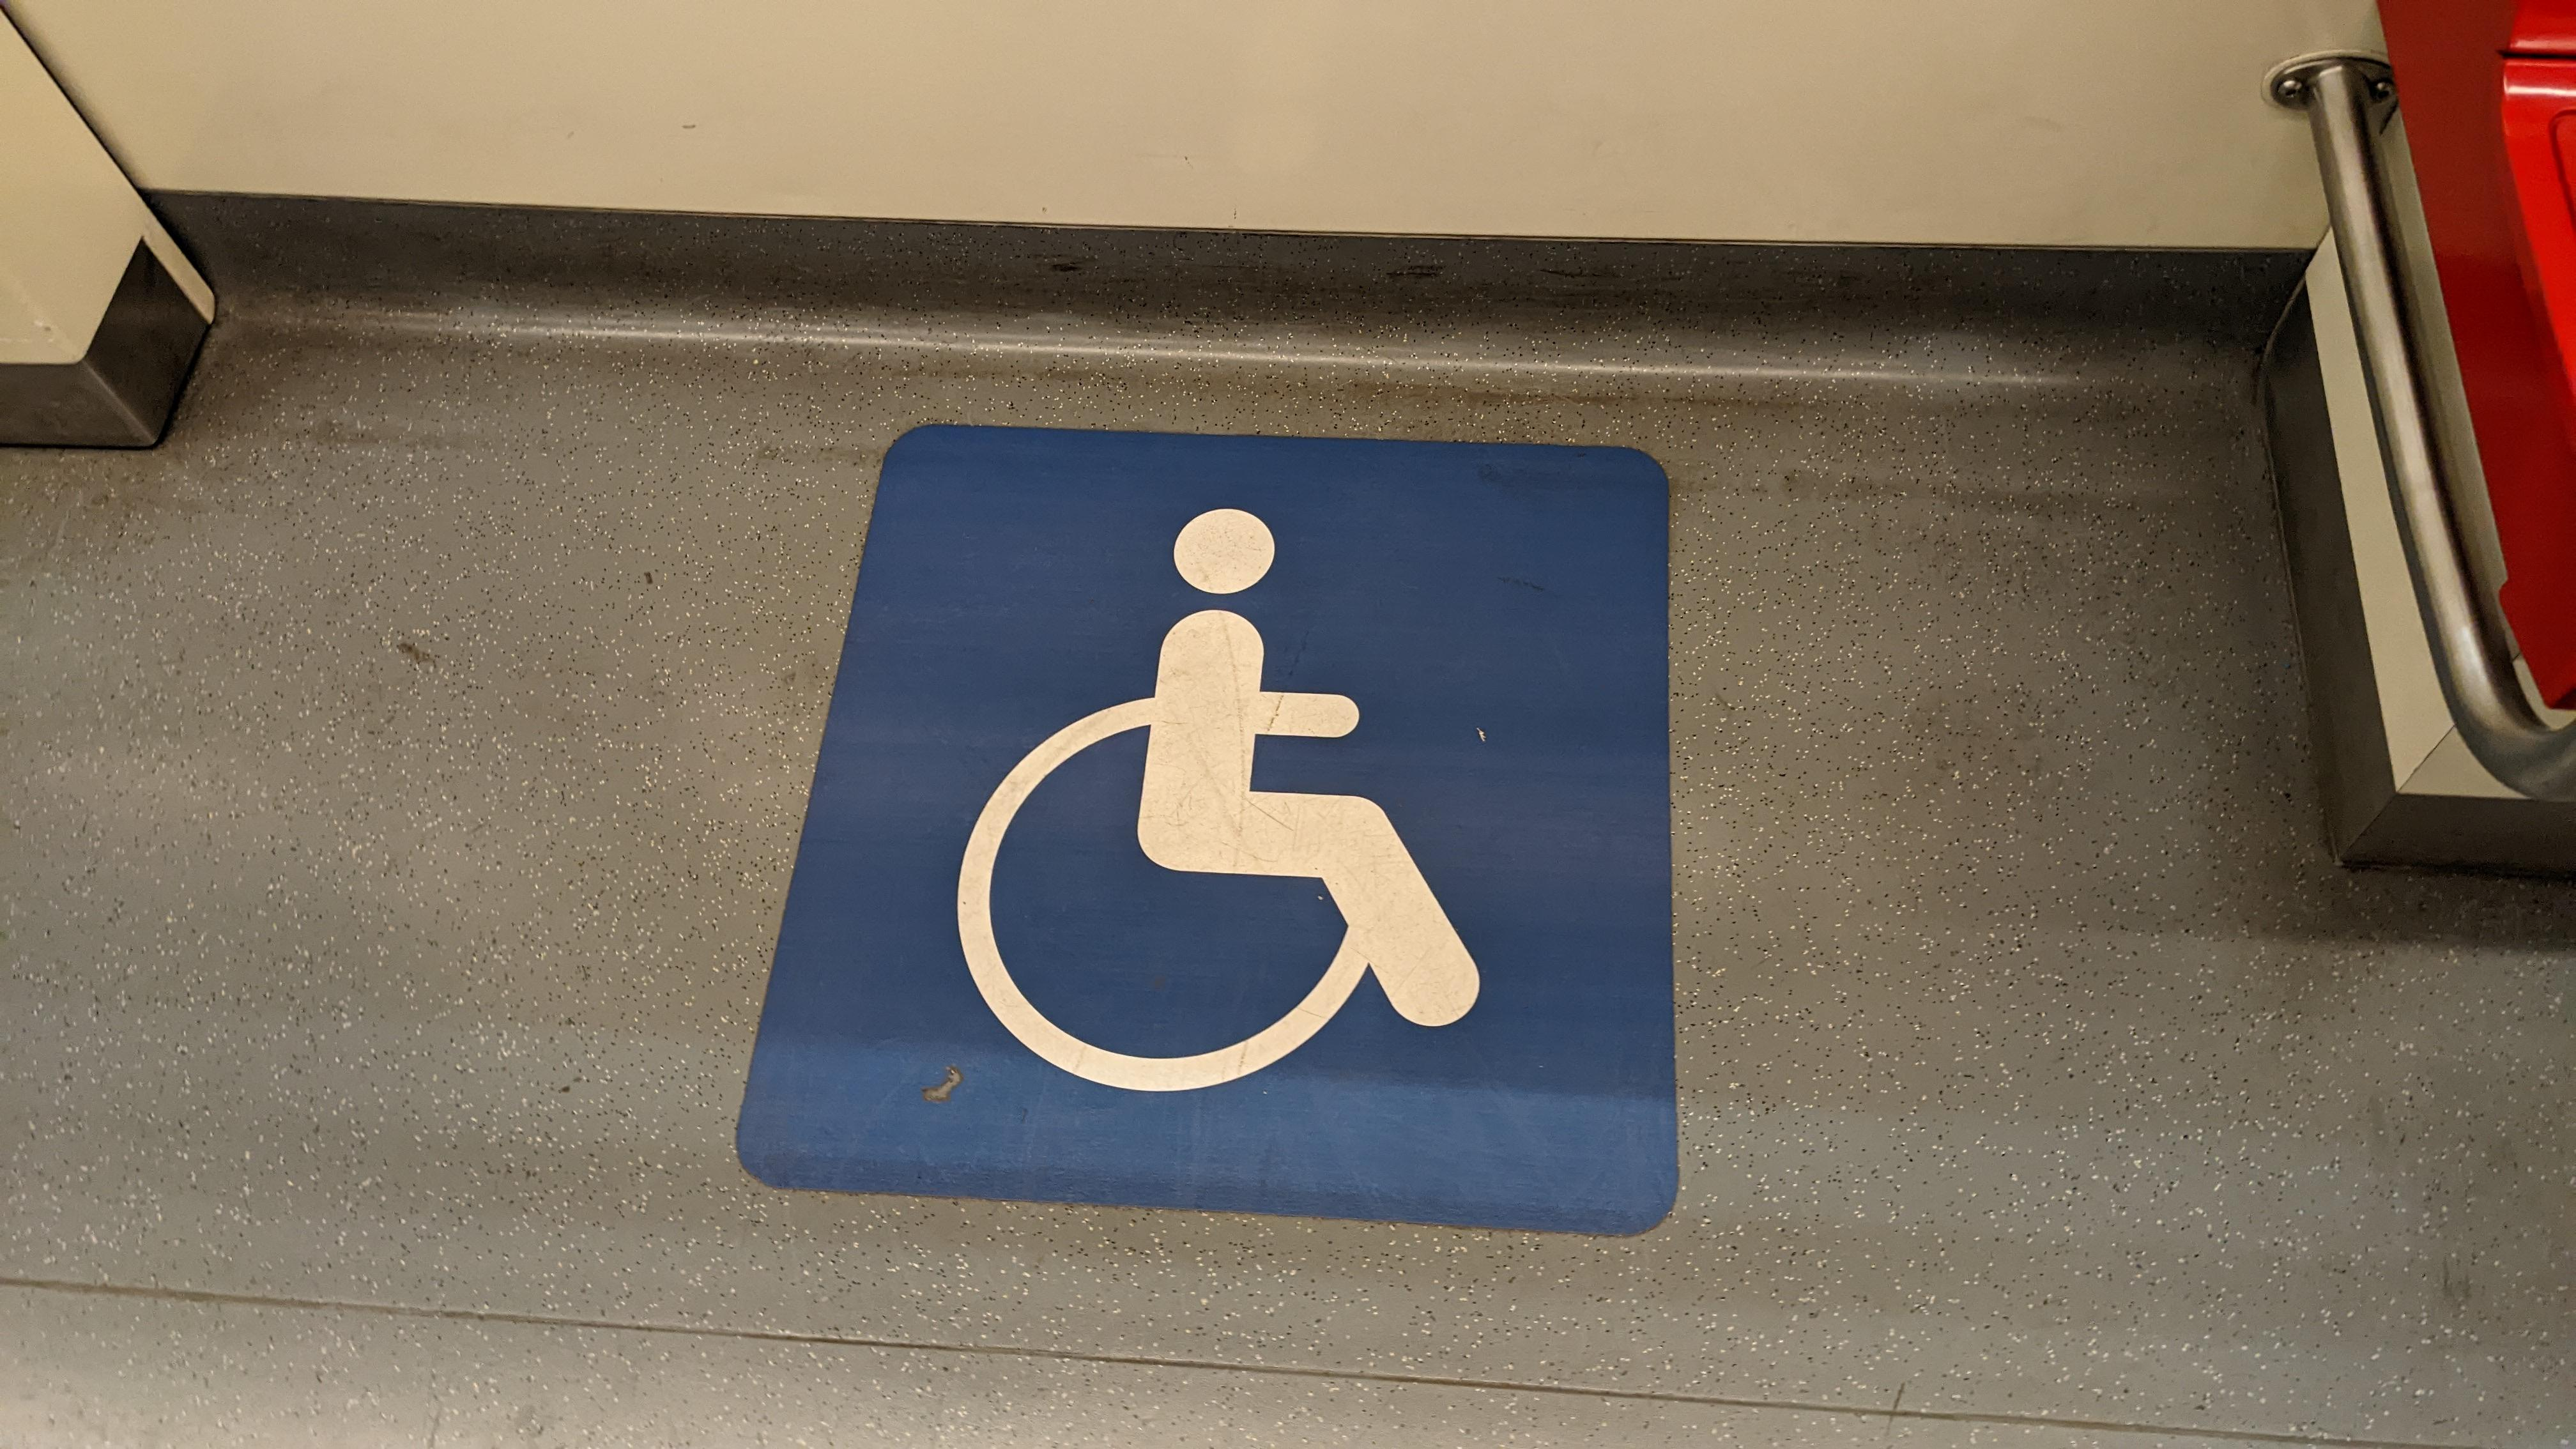handicapped symbol: (948, 502, 1491, 1099)
